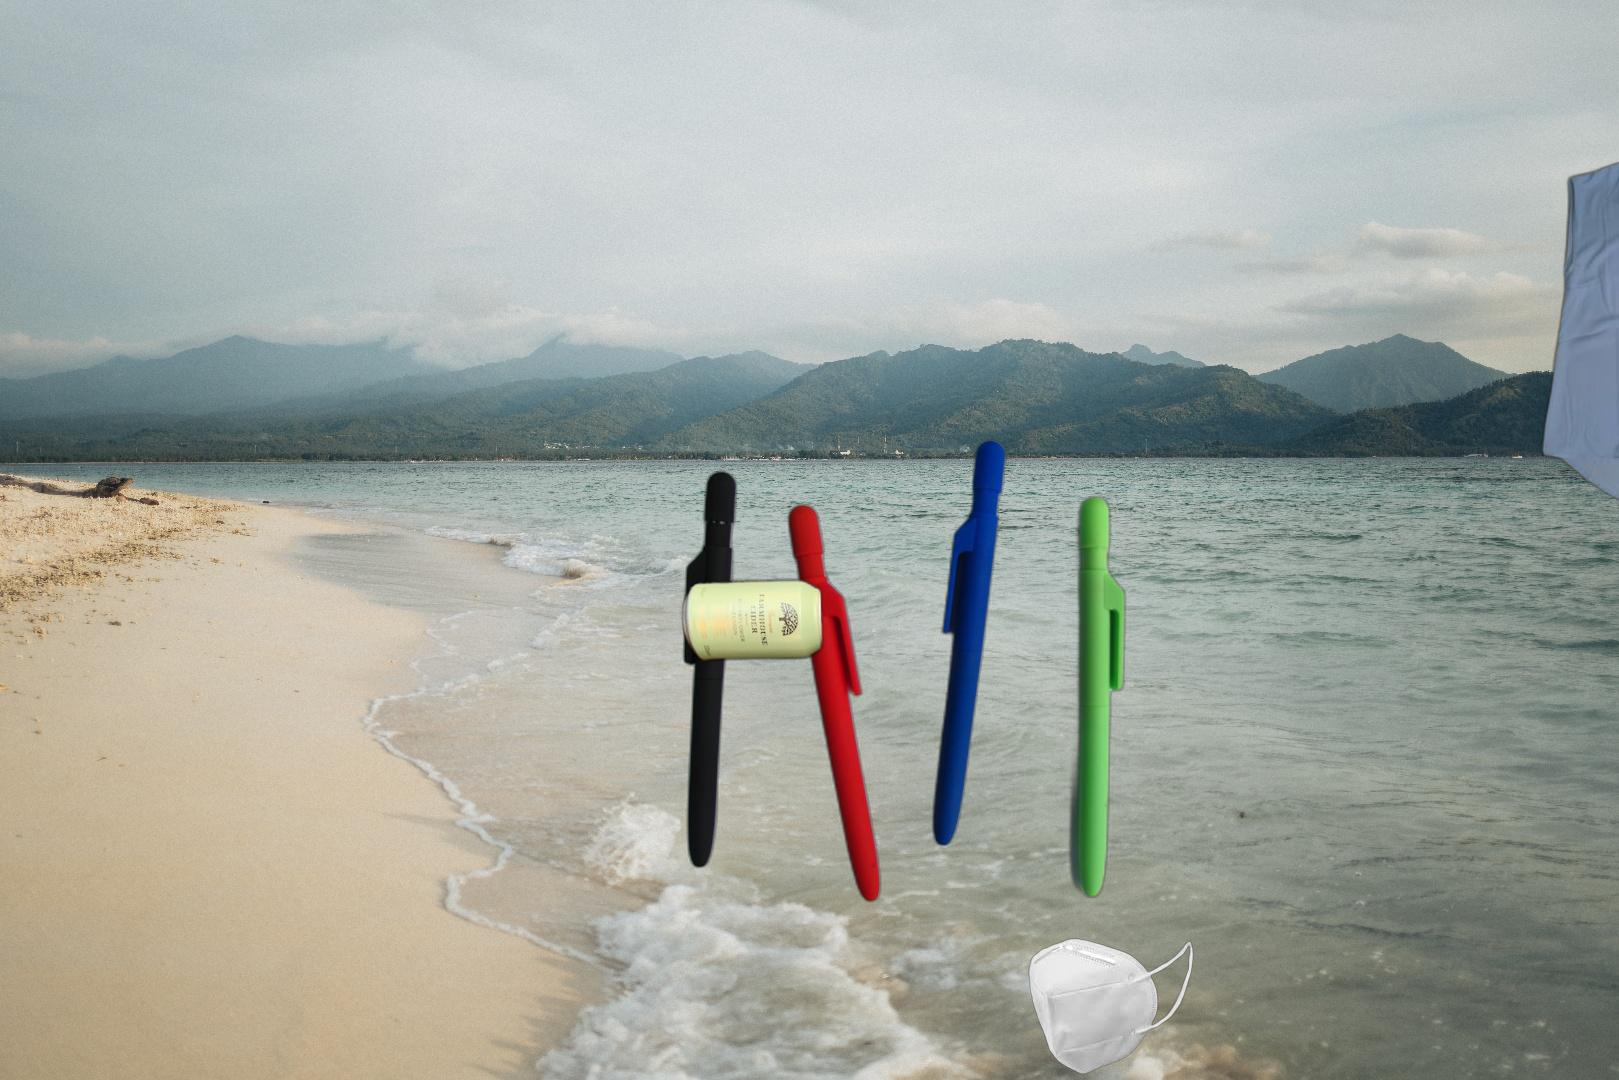clothes: (1536, 135, 1619, 515)
metal-cans: (679, 573, 1060, 1032)
penholder: (677, 436, 1240, 921)
trash: (1026, 937, 1196, 1078)
